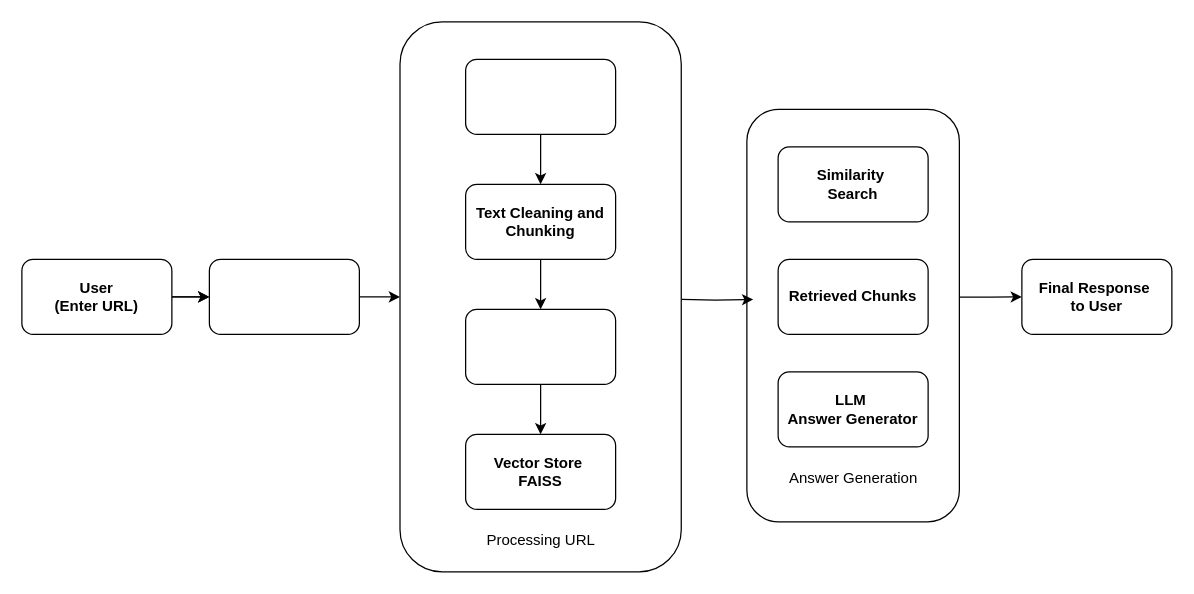
This 1194x594 diagram has some shape labels left out. Each missing label, with the box of its shape:
Embedding Model: (464, 308, 616, 384)
Streamlit UI: (208, 258, 359, 334)
WebScraper (BeautifulSoup): (464, 58, 616, 134)
